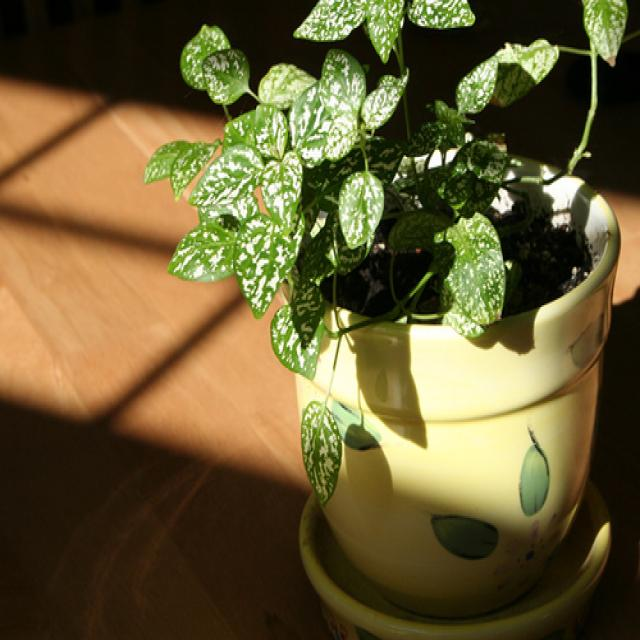pottedplant: (143, 1, 630, 639)
